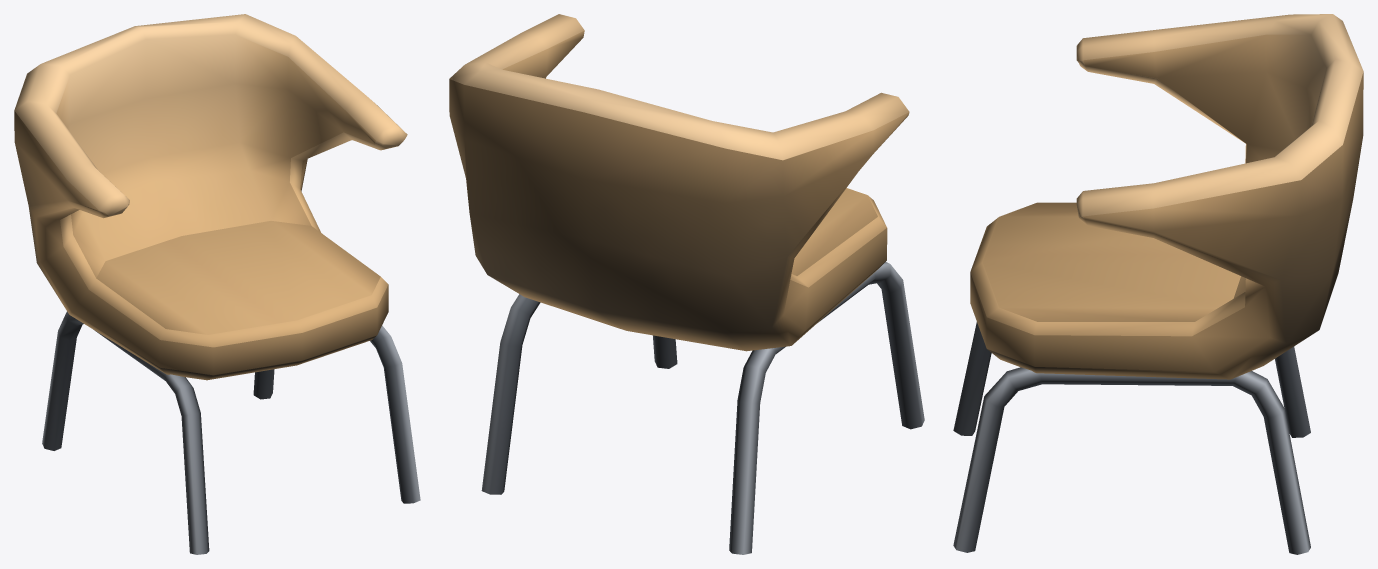
Rendered from Chair.fbx.
3 views of the same model, side by side, from view 1: azimuth 30°, elevation 25°; view 2: azimuth 150°, elevation 25°; view 3: azimuth 270°, elevation 25° (orthographic). The views are drawn at different scales.
Visible parts, largest first — view 1: Chair; view 2: Chair; view 3: Chair.
Part boxes in pixels (box(x1,y1,x2,y2)): Chair: box(14, 14, 420, 554); Chair: box(449, 14, 924, 554); Chair: box(953, 14, 1363, 554).
Bounding box in the file's own units: 101 × 119 × 102.
